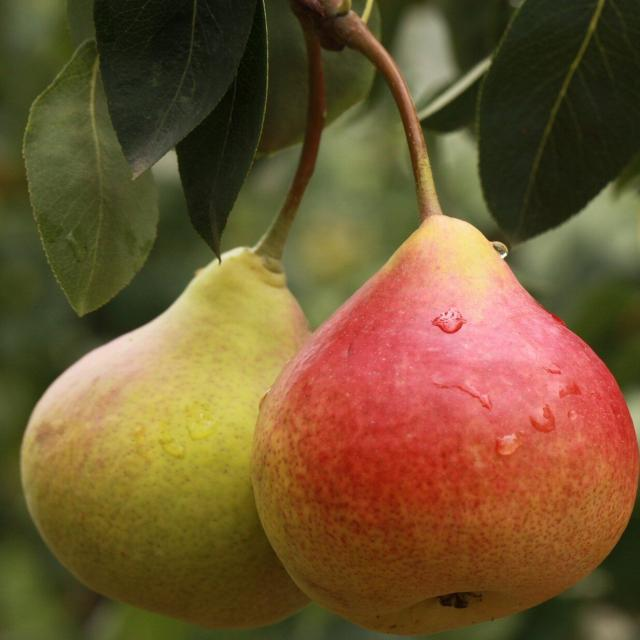pear: (18, 216, 636, 633), (19, 244, 316, 630)
